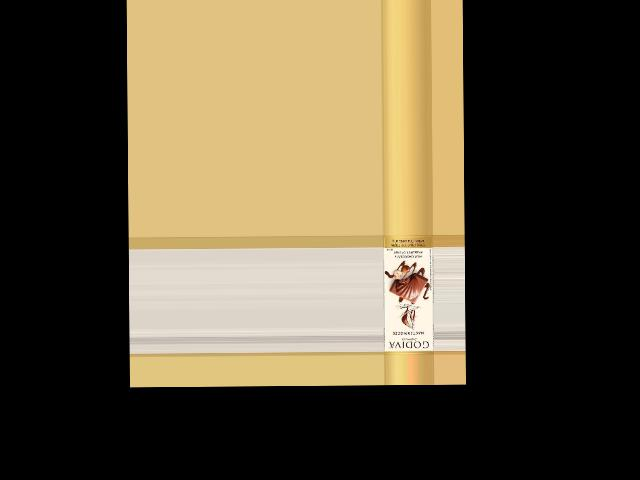chocolate: (382, 235, 433, 354)
